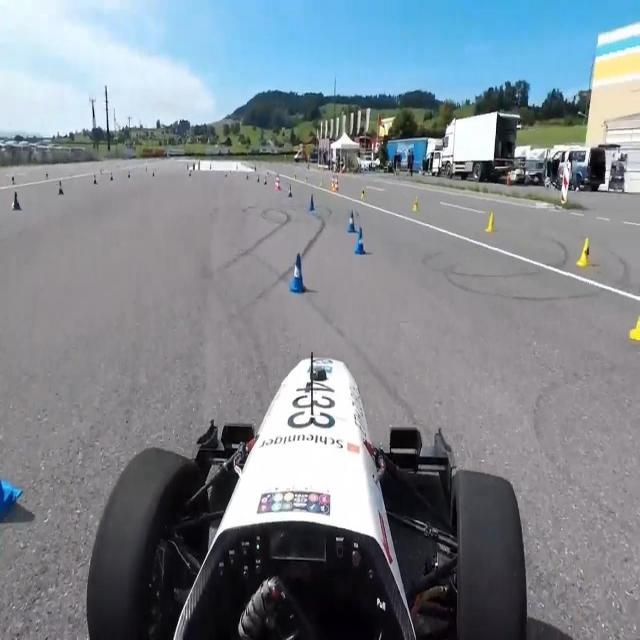blue_cone: (0, 418, 22, 518), (288, 250, 308, 296), (354, 226, 366, 256), (347, 210, 357, 234), (308, 191, 316, 213)
large_orange_cone: (276, 174, 280, 191), (334, 176, 338, 192), (331, 175, 335, 190)
yellow_cone: (576, 234, 590, 269), (485, 211, 494, 233), (412, 194, 418, 212)
